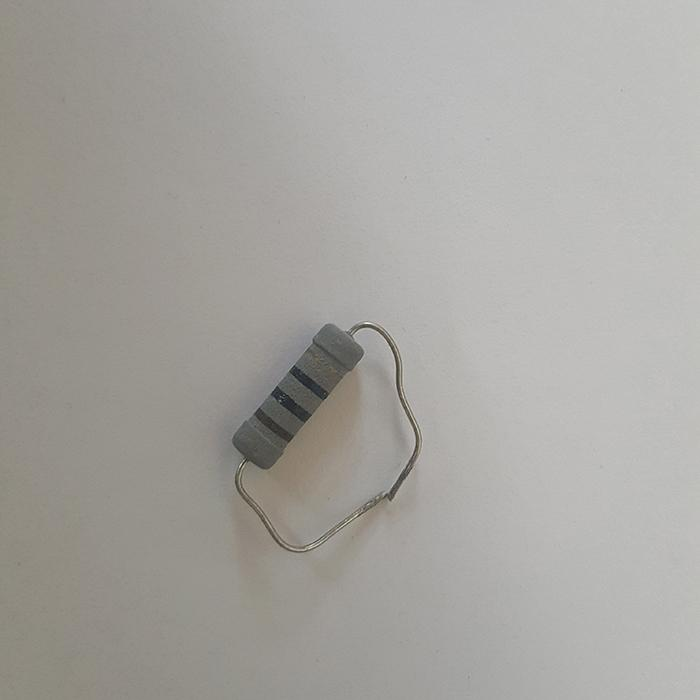resistor: (232, 323, 365, 471)
